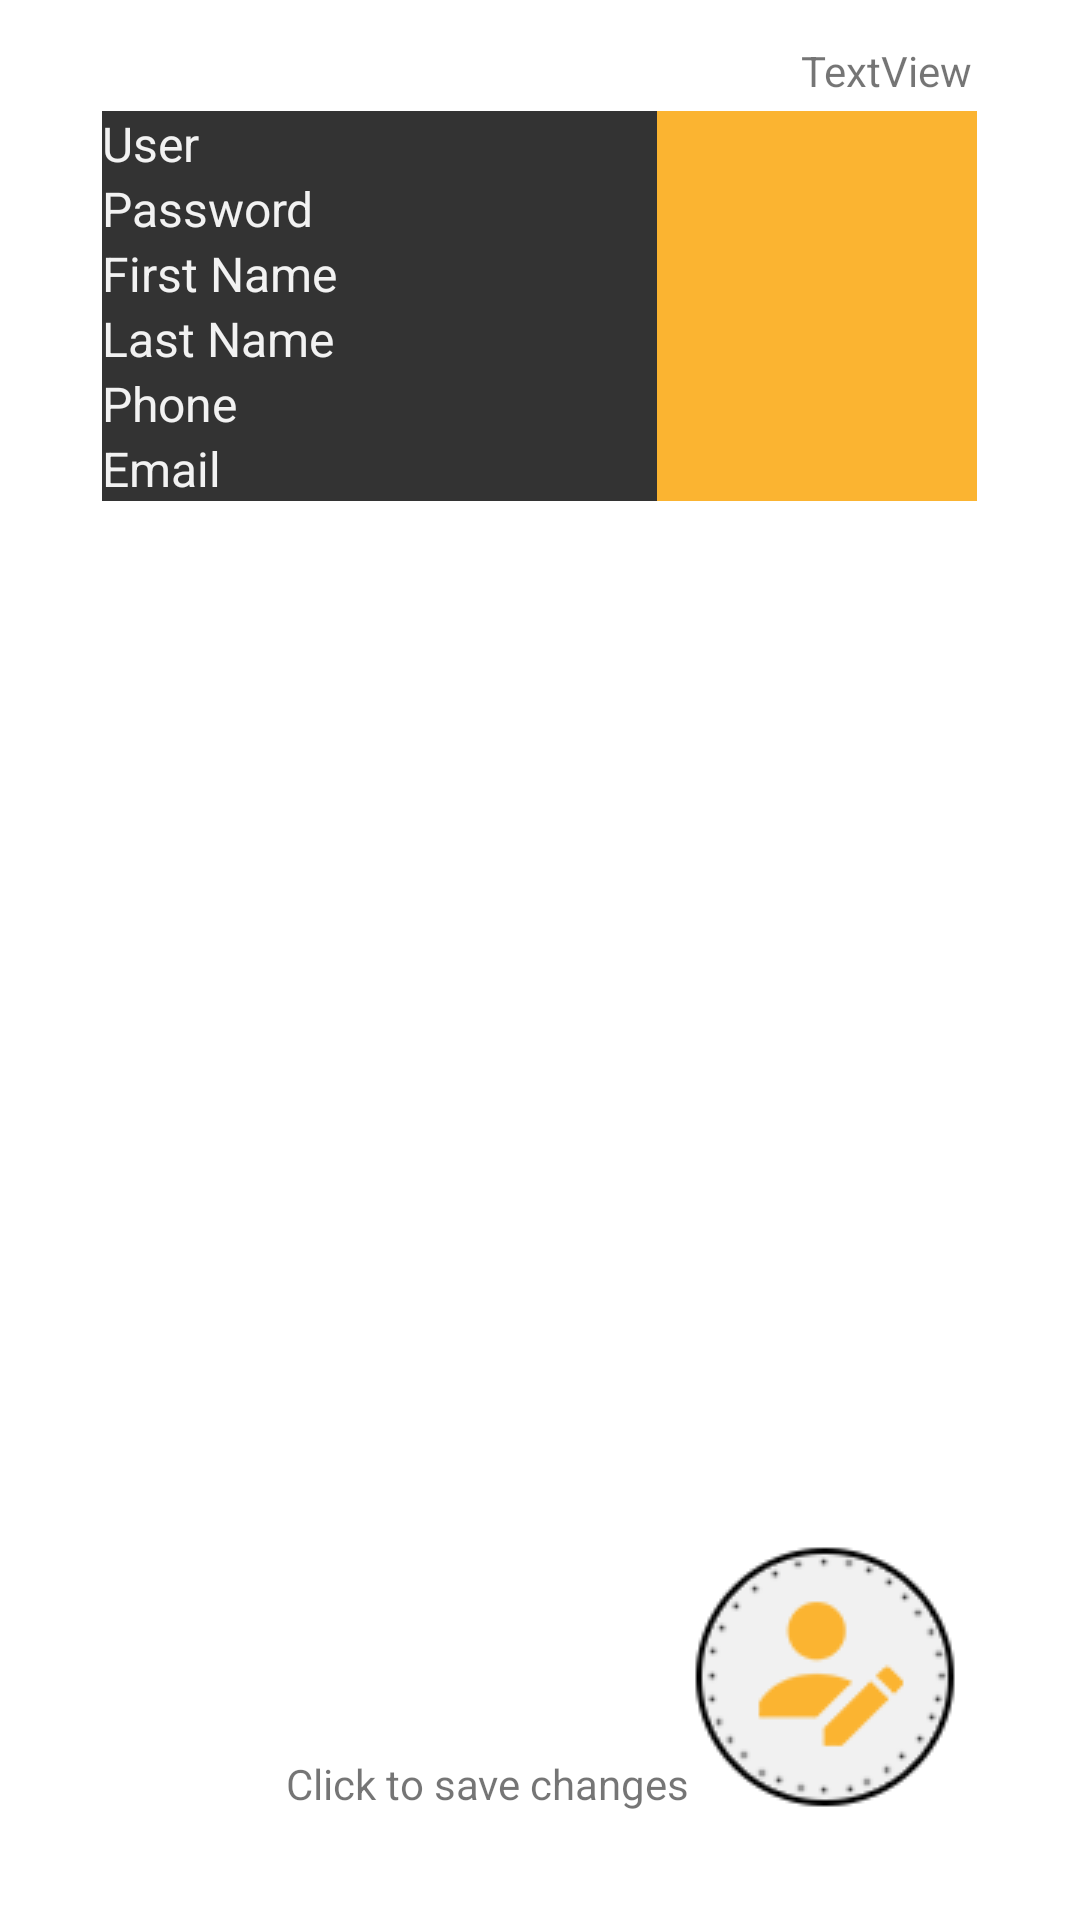

Icon click points for this 1080*1920 phone screenshot, format point (x, y):
changeinfo: point (825, 1677)
